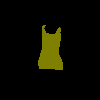canottiera: (37, 24, 63, 70)
